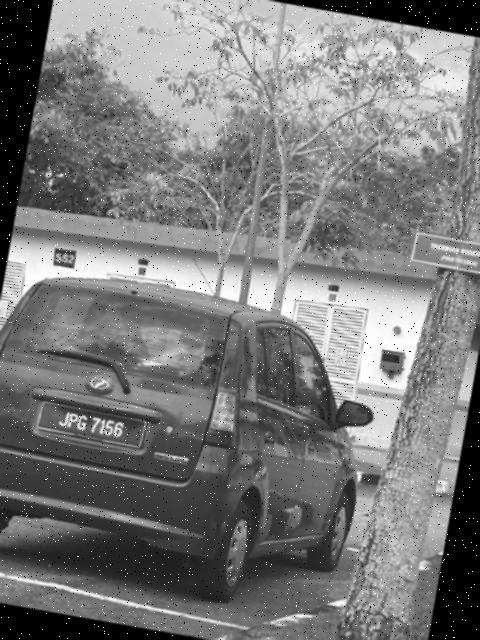License_Plate: (34, 401, 149, 455)
car: (1, 255, 404, 632)
